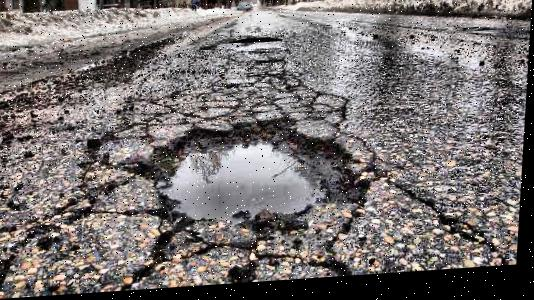pothole: (122, 112, 385, 251), (231, 37, 281, 49)
